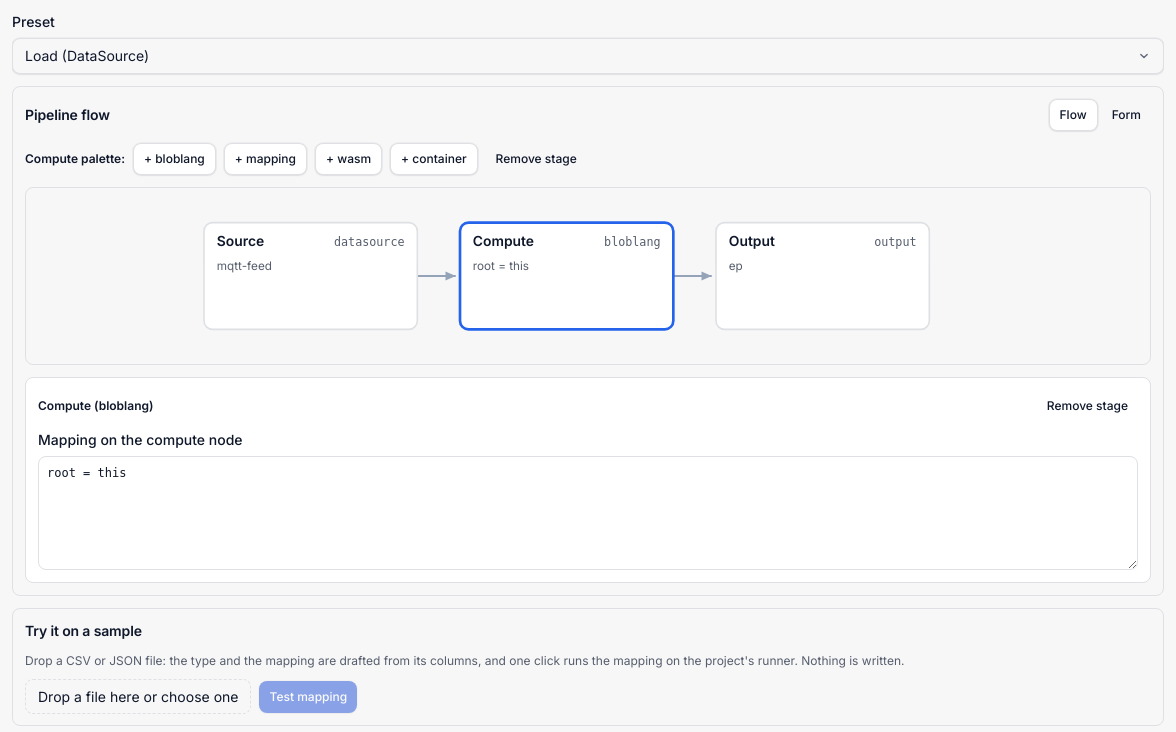
it: PipelineFlow component rendering & interactions › switches between Flow and Form view in PipelineStudio
Expected: the picture with test id "flow-canvas" is shown, left=34, top=196, right=1142, bottom=356
Click the tab with test id "studio-view-form" at (1126, 115), box left=1102, top=99, right=1151, bottom=131
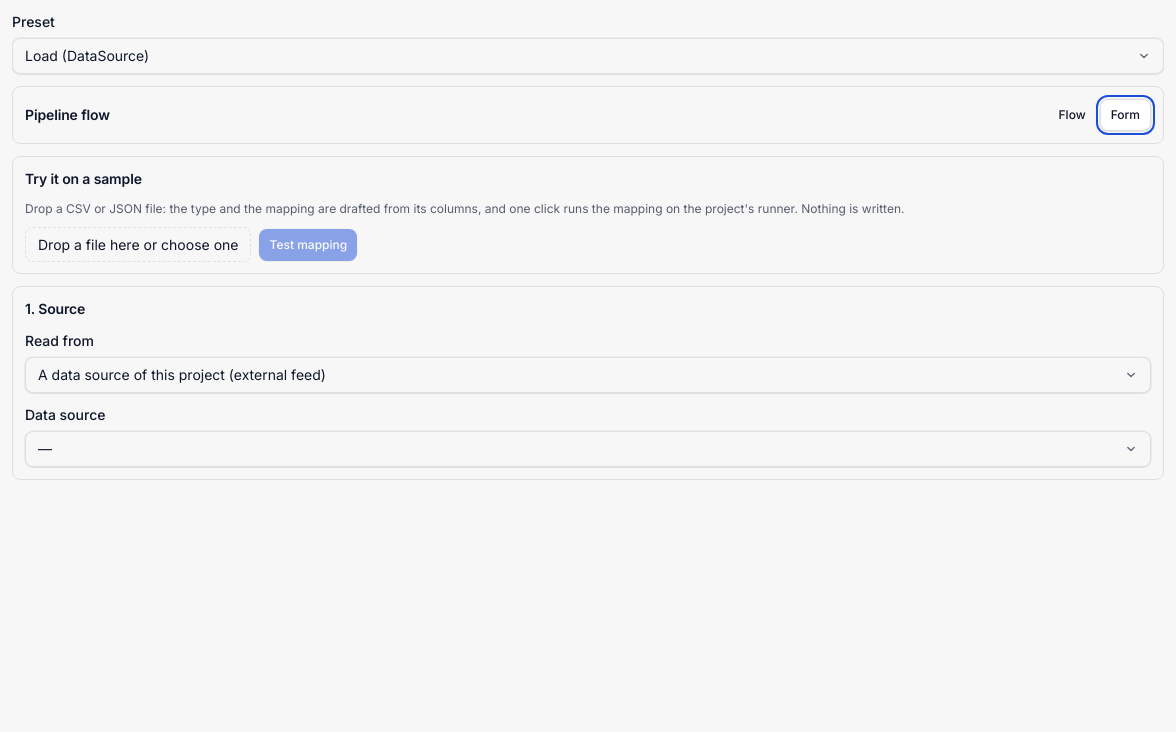
Expected: the picture with test id "flow-canvas" is gone
Click the tab with test id "studio-view-flow" at (1072, 115), box left=1048, top=99, right=1096, bottom=131
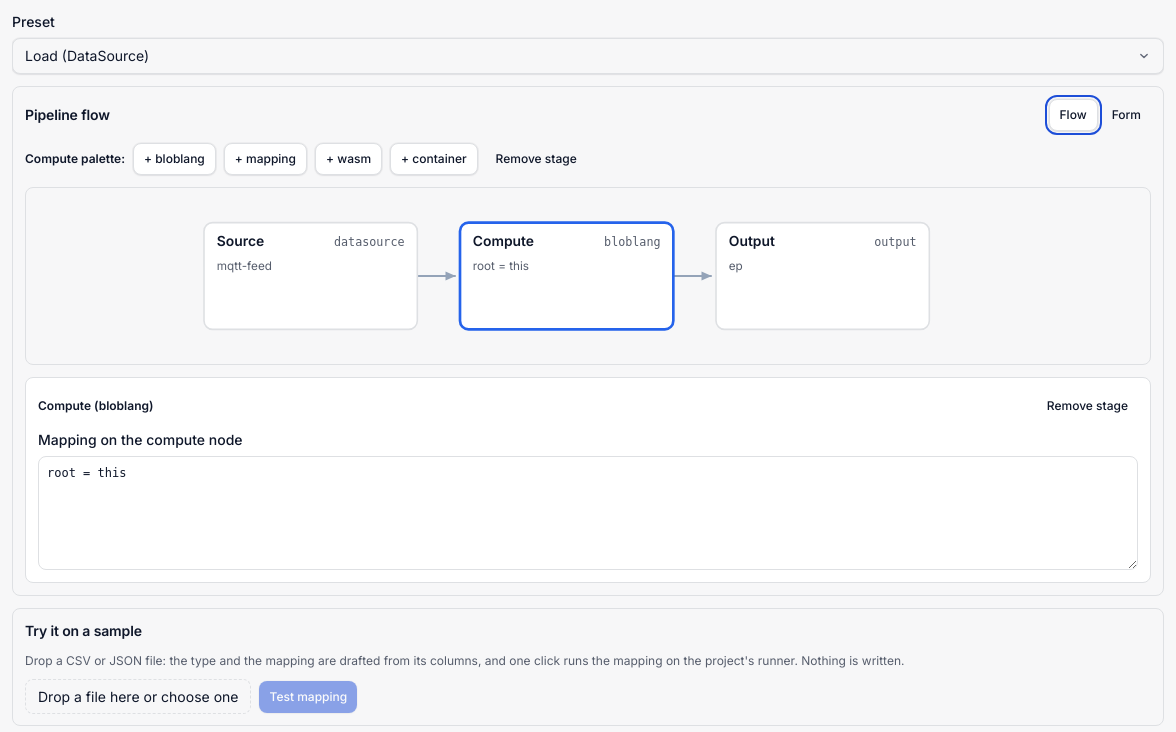
Expected: the picture with test id "flow-canvas" is shown, left=34, top=196, right=1142, bottom=356
